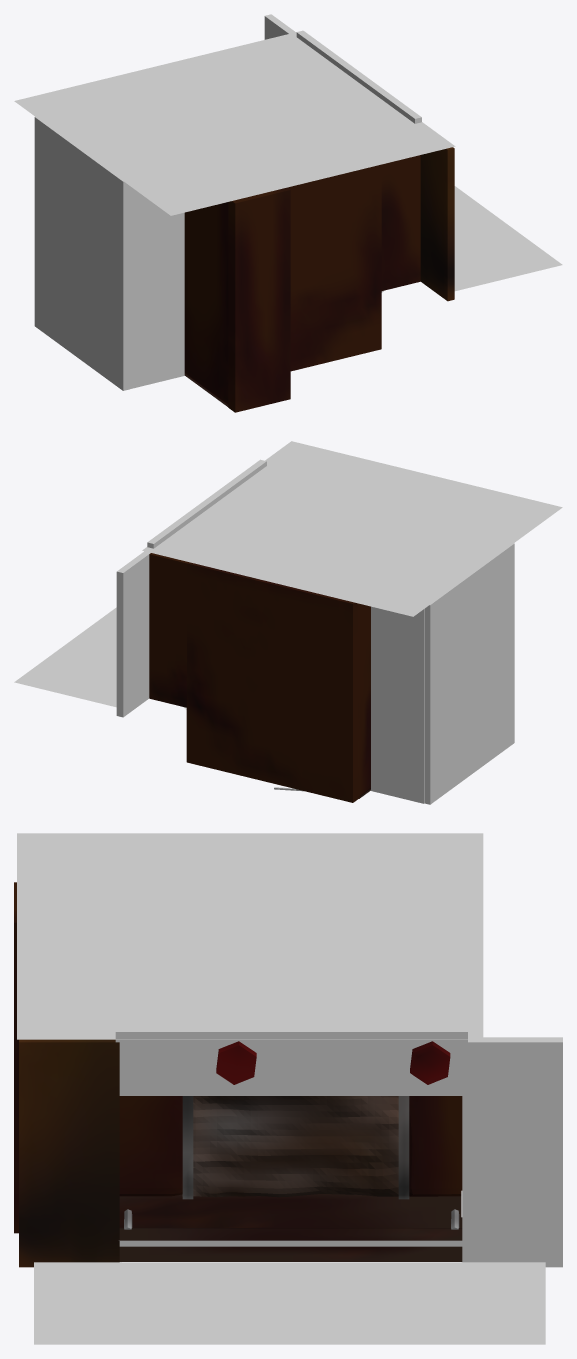
File: Salle de la porte(3).fbx
3 views of the same model, one above another, from view 1: azimuth 30°, elevation 25°; view 2: azimuth 150°, elevation 25°; view 3: azimuth 270°, elevation 25° (orthographic). The views are drawn at different scales.
Visible parts, largest first — view 1: Plafond, Boîte 12, Plan 14, Plan 9, Boîte 3, Plan 4, Plan 1, Plan 16, Plan 17, Plan 19, Plan 7; view 2: Plafond, Plan 13, Boîte 12, Boîte 1, Plan 15, Plan 1, Plan 7, Plan 4, Plan 19; view 3: Plafond, Plan 1, Plan 7, Plan 17, Porte, Plan 19, Plan 10, Plan 4, Plan 18, Encadrement porte, Plan 9, Tuyaux plafond 2 (+1 smaller).
Boxes of the visible parts, x1,y1,x2,y2 form: Plafond: (14, 32, 455, 215); Boîte 12: (34, 116, 129, 390); Plan 14: (288, 164, 381, 371); Plan 9: (228, 187, 290, 412); Boîte 3: (130, 186, 184, 388); Plan 4: (184, 202, 228, 404); Plan 1: (454, 186, 562, 291); Plan 16: (381, 155, 420, 290); Plan 17: (420, 147, 454, 301); Plan 19: (296, 30, 421, 123); Plan 7: (264, 14, 295, 39); Plafond: (142, 441, 562, 616); Plan 13: (186, 562, 359, 802); Boîte 12: (424, 543, 514, 804); Boîte 1: (371, 606, 424, 803); Plan 15: (149, 553, 187, 707); Plan 1: (14, 607, 116, 707); Plan 7: (116, 551, 150, 717); Plan 4: (357, 603, 370, 796); Plan 19: (147, 459, 266, 548); Plafond: (17, 833, 483, 1039); Plan 1: (34, 1262, 545, 1344); Plan 7: (462, 1037, 562, 1267); Plan 17: (19, 1039, 119, 1267); Porte: (182, 1096, 409, 1199); Plan 19: (115, 1027, 467, 1095); Plan 10: (119, 1194, 462, 1261); Plan 4: (119, 1096, 462, 1196); Plan 18: (119, 1240, 463, 1246); Encadrement porte: (182, 1096, 409, 1199); Plan 9: (14, 882, 18, 1233); Tuyaux plafond 2: (410, 1041, 450, 1084).
Bounding box in the file's own units: 10.77 × 5.89 × 8.66.
